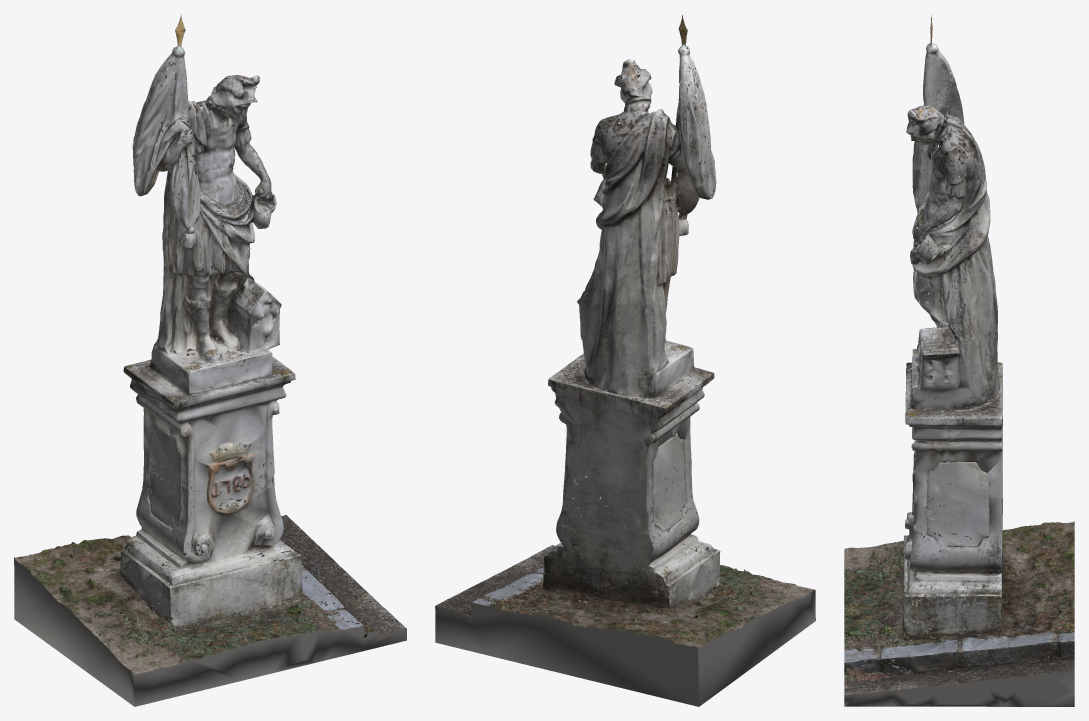
File: scan-florian.glb
The picture shows the model from 3 angles, left to right: view 1: azimuth 30°, elevation 25°; view 2: azimuth 150°, elevation 25°; view 3: azimuth 270°, elevation 25°; orthographic projection. The views are drawn at different scales.
Parts seen in each view (by area): view 1: geometry_4, geometry_2, geometry_6, geometry_0, geometry_3, geometry_5; view 2: geometry_5, geometry_4, geometry_0, geometry_6, geometry_3, geometry_2; view 3: geometry_4, geometry_5, geometry_6, geometry_2, geometry_3, geometry_0.
Part boxes in pixels (left/top/right/bottom): geometry_4: left=14, top=47, right=368, bottom=637; geometry_2: left=30, top=49, right=404, bottom=664; geometry_6: left=82, top=112, right=377, bottom=672; geometry_0: left=14, top=515, right=406, bottom=706; geometry_3: left=22, top=14, right=406, bottom=674; geometry_5: left=123, top=15, right=295, bottom=563; geometry_5: left=548, top=15, right=714, bottom=559; geometry_4: left=441, top=47, right=749, bottom=647; geometry_0: left=435, top=545, right=815, bottom=706; geometry_6: left=436, top=114, right=812, bottom=613; geometry_3: left=536, top=17, right=815, bottom=645; geometry_2: left=444, top=47, right=772, bottom=637; geometry_4: left=853, top=46, right=1074, bottom=681; geometry_5: left=905, top=15, right=1002, bottom=581; geometry_6: left=844, top=144, right=1074, bottom=689; geometry_2: left=844, top=64, right=1073, bottom=694; geometry_3: left=844, top=14, right=1069, bottom=694; geometry_0: left=844, top=522, right=1074, bottom=706.
Bounding box in the file's own units: 0.8935 × 2 × 0.6855.
1 material, 1 textured.
